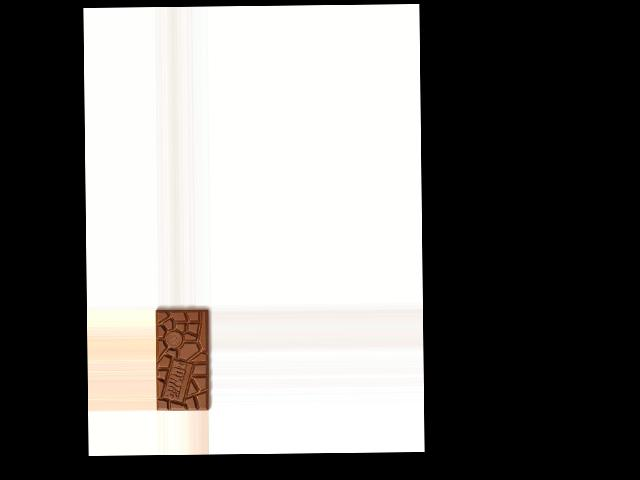chocolate: (155, 308, 212, 411)
